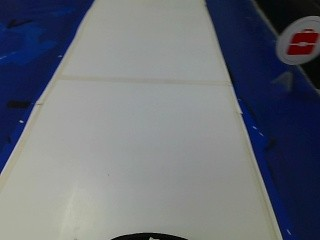company: (275, 13, 318, 68)
